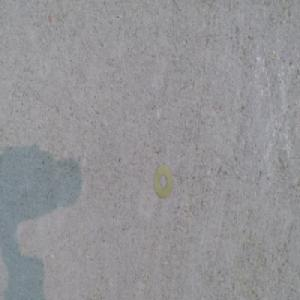Washer: (152, 165, 174, 199)
